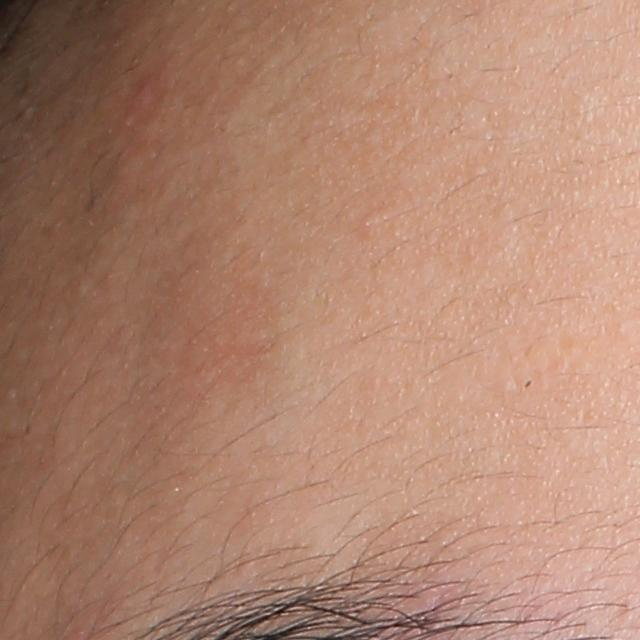comedo: (359, 217, 374, 234)
